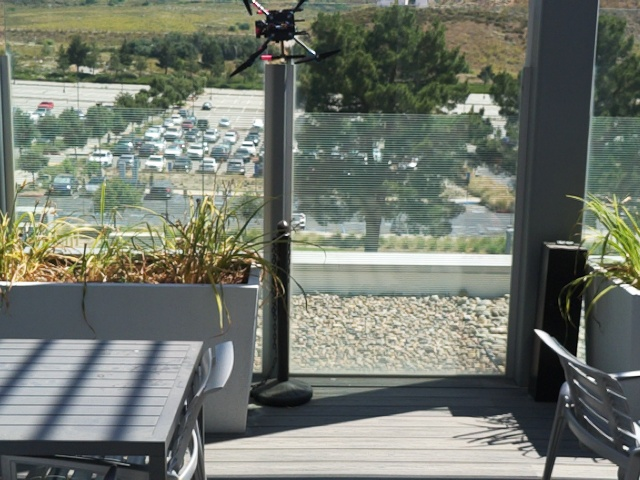quadcopter: (207, 1, 352, 77)
